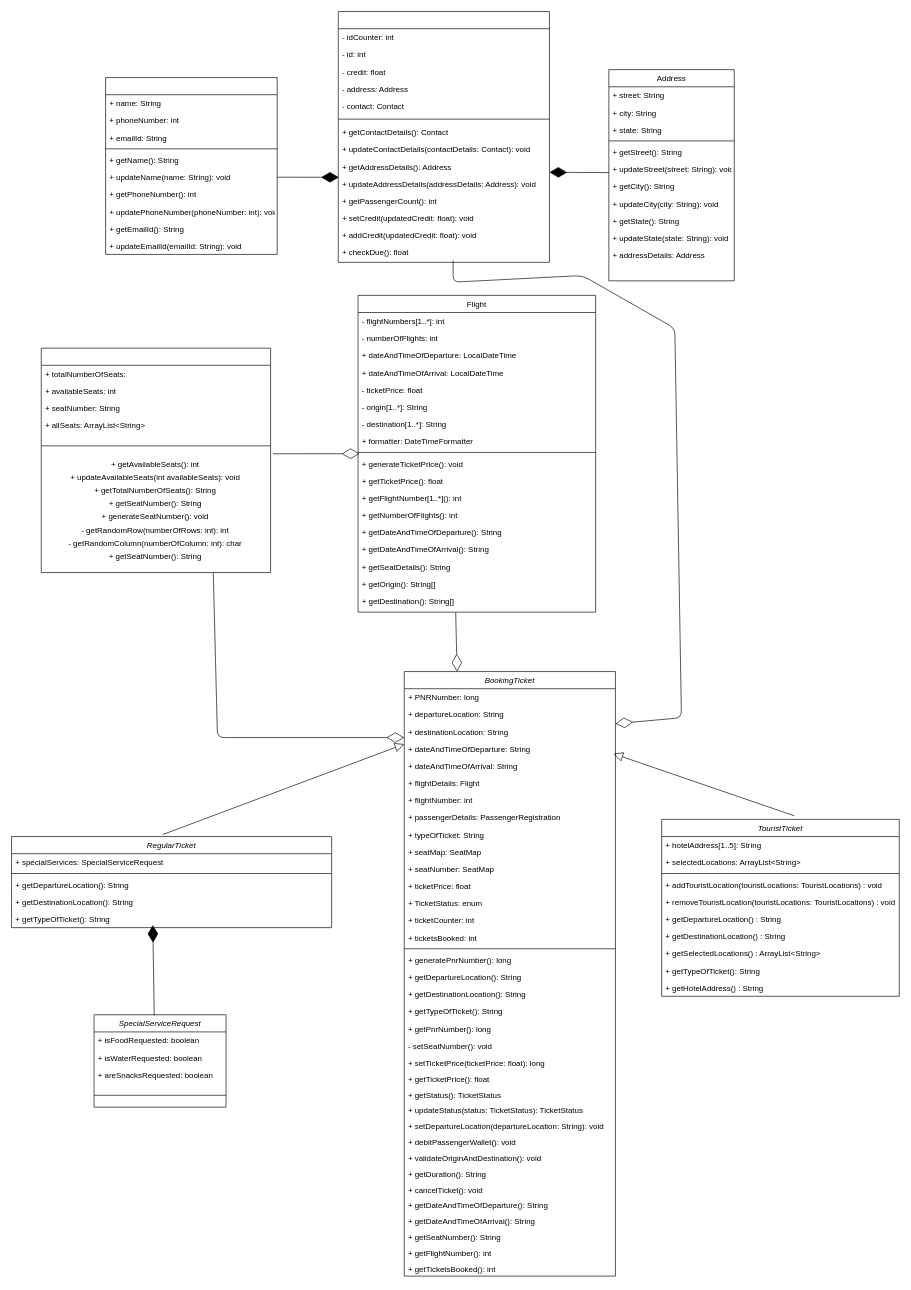
Image size: 911x1290. Some labels were removed from this diagram. The shapes that lost their labels are listed below. From the top down, each one's box as (x1, y1, x2, y2) in pixels, then its label:
(338, 11, 549, 262): PassengerRegistration
(105, 77, 277, 254): Contact
(41, 347, 271, 573): SeatMap
